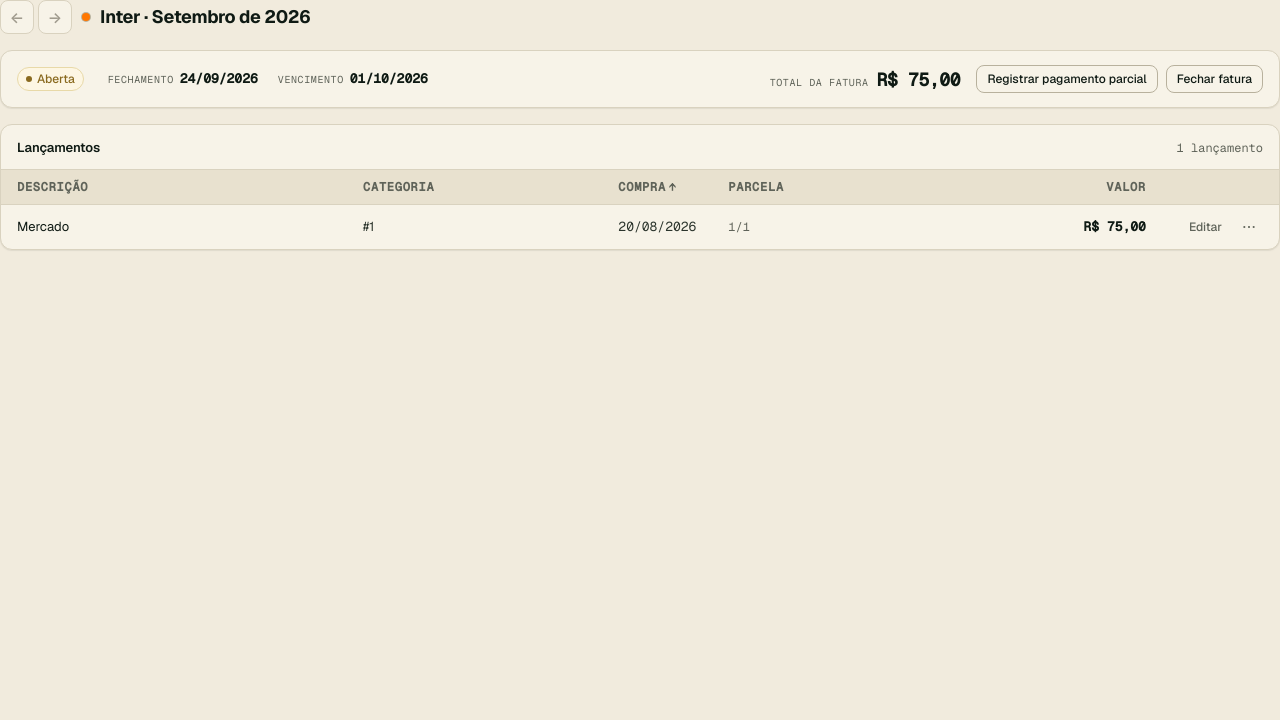
Scenario: FaturaDetalhe — confirmar a exclusão da despesa › compra à vista: nomeia a despesa e o valor
Click the button named "Mais ações": (1249, 227) [1235,213,1263,241]
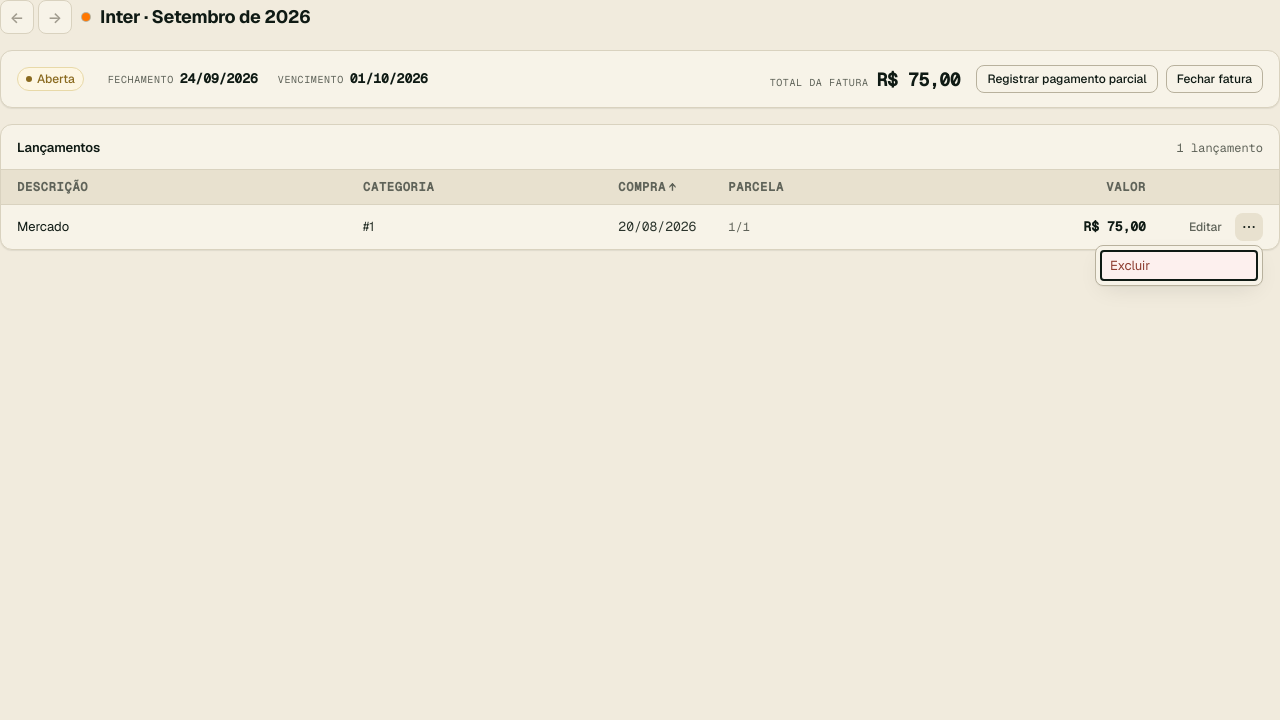
Click the menu item "Excluir": (1179, 266) [1100,250,1258,281]
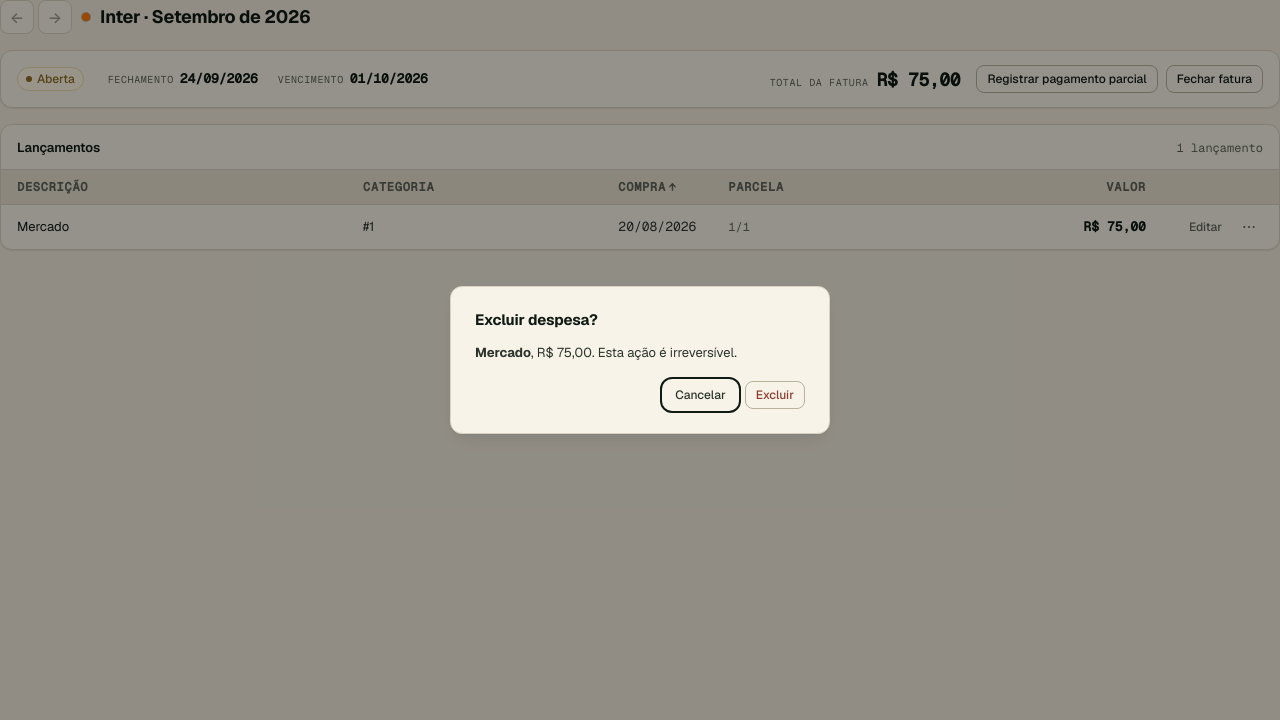
Now the dialog "Excluir despesa?" reads "Excluir despesa? Mercado, R$ 75,00. Esta ação é irreversível. Cancelar Excluir", box [450,286,830,434]
